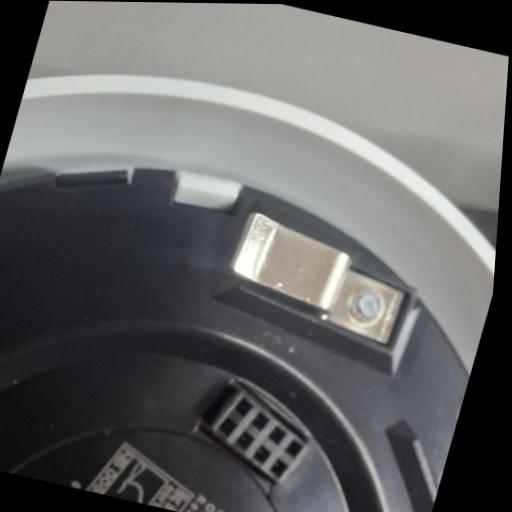yaysiz: (215, 207, 426, 346)
